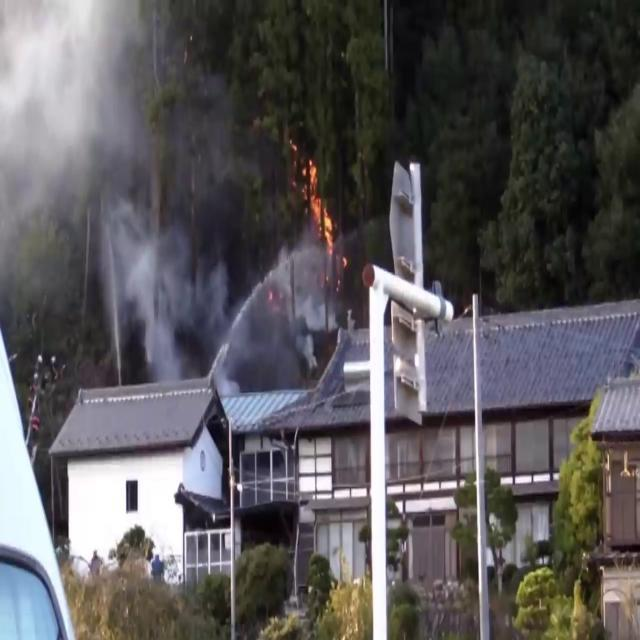Fire: (300, 146, 340, 254)
Smoke: (109, 98, 345, 401), (0, 0, 174, 256)
